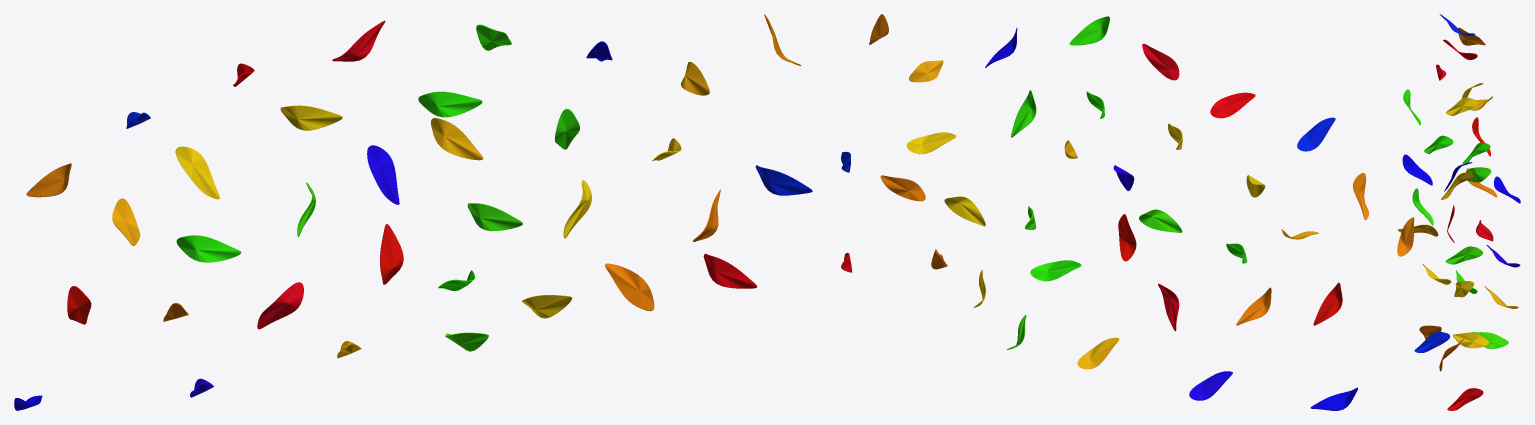
Rendered from Listt.glb.
3 views of the same model, side by side, from view 1: azimuth 30°, elevation 25°; view 2: azimuth 150°, elevation 25°; view 3: azimuth 270°, elevation 25° (orthographic). The views are drawn at different scales.
Parts seen in each view (by area): view 1: Цилиндр.017, Цилиндр.015, Цилиндр.026, Цилиндр.002, Цилиндр.028, Цилиндр.005, Цилиндр.009, Цилиндр.020, Цилиндр.008, Цилиндр.033, Цилиндр.024, Цилиндр.019 (+5 smaller); view 2: Цилиндр.010, Цилиндр.030, Цилиндр.031, Цилиндр.022, Цилиндр.025, Цилиндр.021, Цилиндр.007, Цилиндр.001, Цилиндр.003, Цилиндр.011, Цилиндр.004, Цилиндр.006 (+6 smaller); view 3: Цилиндр.018, Цилиндр.032, Цилиндр.019, Цилиндр.016, Цилиндр.033, Цилиндр.020, Цилиндр.009, Цилиндр.027, Цилиндр.003, Цилиндр.002, Цилиндр.012, Цилиндр.026 (+16 smaller).
Boxes of the visible parts, x1=… form: Цилиндр.017: x1=605, y1=263, x2=654, y2=311; Цилиндр.015: x1=176, y1=235, x2=241, y2=262; Цилиндр.026: x1=431, y1=118, x2=483, y2=160; Цилиндр.002: x1=418, y1=91, x2=482, y2=117; Цилиндр.028: x1=367, y1=145, x2=399, y2=204; Цилиндр.005: x1=175, y1=146, x2=219, y2=199; Цилиндр.009: x1=280, y1=105, x2=342, y2=130; Цилиндр.020: x1=703, y1=253, x2=756, y2=288; Цилиндр.008: x1=257, y1=282, x2=303, y2=329; Цилиндр.033: x1=467, y1=203, x2=522, y2=231; Цилиндр.024: x1=380, y1=224, x2=403, y2=284; Цилиндр.019: x1=755, y1=165, x2=812, y2=195; Цилиндр.010: x1=1210, y1=92, x2=1255, y2=118; Цилиндр.030: x1=1030, y1=260, x2=1081, y2=281; Цилиндр.031: x1=880, y1=175, x2=925, y2=201; Цилиндр.022: x1=1142, y1=43, x2=1179, y2=80; Цилиндр.025: x1=906, y1=132, x2=956, y2=154; Цилиндр.021: x1=944, y1=196, x2=985, y2=226; Цилиндр.007: x1=1069, y1=16, x2=1109, y2=45; Цилиндр.001: x1=1189, y1=371, x2=1232, y2=400; Цилиндр.003: x1=1139, y1=209, x2=1182, y2=232; Цилиндр.011: x1=1297, y1=117, x2=1335, y2=151; Цилиндр.004: x1=1077, y1=337, x2=1119, y2=369; Цилиндр.006: x1=1313, y1=282, x2=1342, y2=325; Цилиндр.018: x1=1397, y1=217, x2=1414, y2=256; Цилиндр.032: x1=1452, y1=332, x2=1488, y2=348; Цилиндр.019: x1=1414, y1=332, x2=1450, y2=352; Цилиндр.016: x1=1402, y1=154, x2=1432, y2=185; Цилиндр.033: x1=1445, y1=246, x2=1482, y2=264; Цилиндр.020: x1=1447, y1=388, x2=1483, y2=410; Цилиндр.009: x1=1446, y1=97, x2=1478, y2=115; Цилиндр.027: x1=1472, y1=332, x2=1508, y2=349; Цилиндр.003: x1=1466, y1=167, x2=1491, y2=182; Цилиндр.002: x1=1424, y1=135, x2=1453, y2=153; Цилиндр.012: x1=1458, y1=27, x2=1485, y2=45; Цилиндр.026: x1=1441, y1=172, x2=1473, y2=199.
Bounding box in the file's own units: 10.4 × 5.32 × 2.43.
